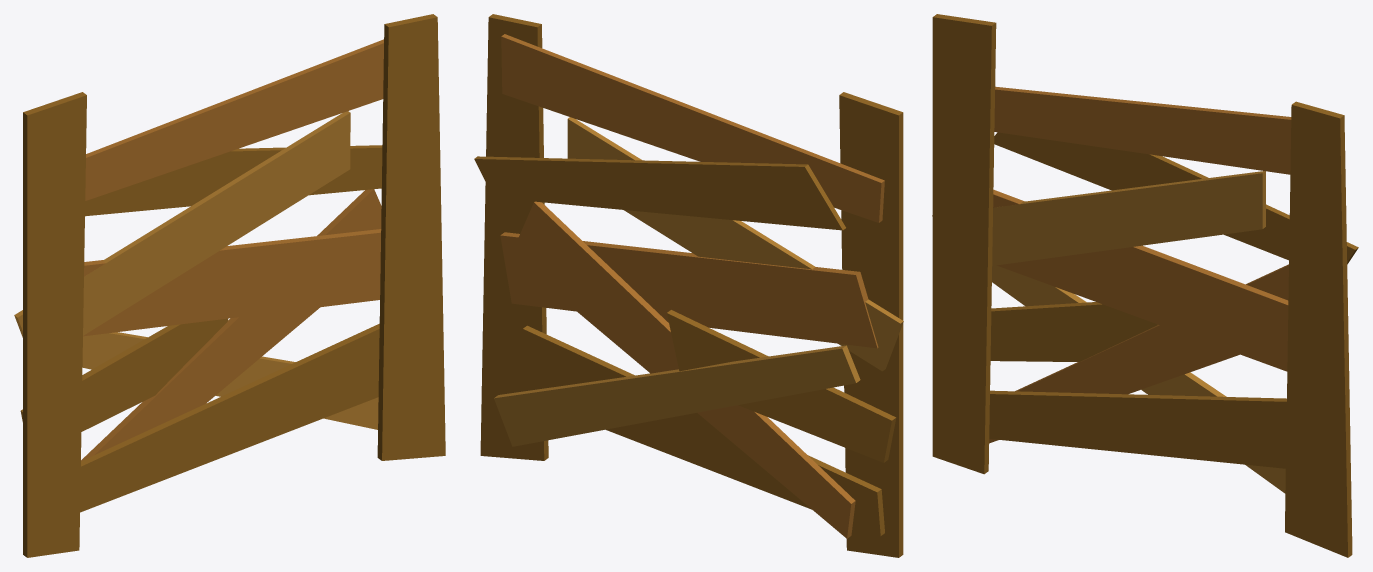
Rendered from fence.gltf.
3 views of the same model, side by side, from view 1: azimuth 30°, elevation 25°; view 2: azimuth 150°, elevation 25°; view 3: azimuth 330°, elevation 25° (orthographic).
Parts seen in each view (by area): view 1: 立方体; view 2: 立方体; view 3: 立方体.
Part boxes in pixels (box(x1,y1,x2,y2)): 立方体: box(14, 14, 445, 557); 立方体: box(474, 14, 903, 557); 立方体: box(932, 14, 1358, 557).
Size of the model in its own units: 4.83 by 4.94 by 0.4315.
